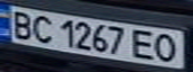1: (54, 17, 75, 48)
2: (72, 19, 93, 52)
6: (90, 21, 109, 54)
7: (106, 24, 130, 56)
B: (6, 8, 36, 39)
C: (27, 12, 57, 44)
E: (127, 27, 160, 61)
O: (151, 32, 184, 63)
